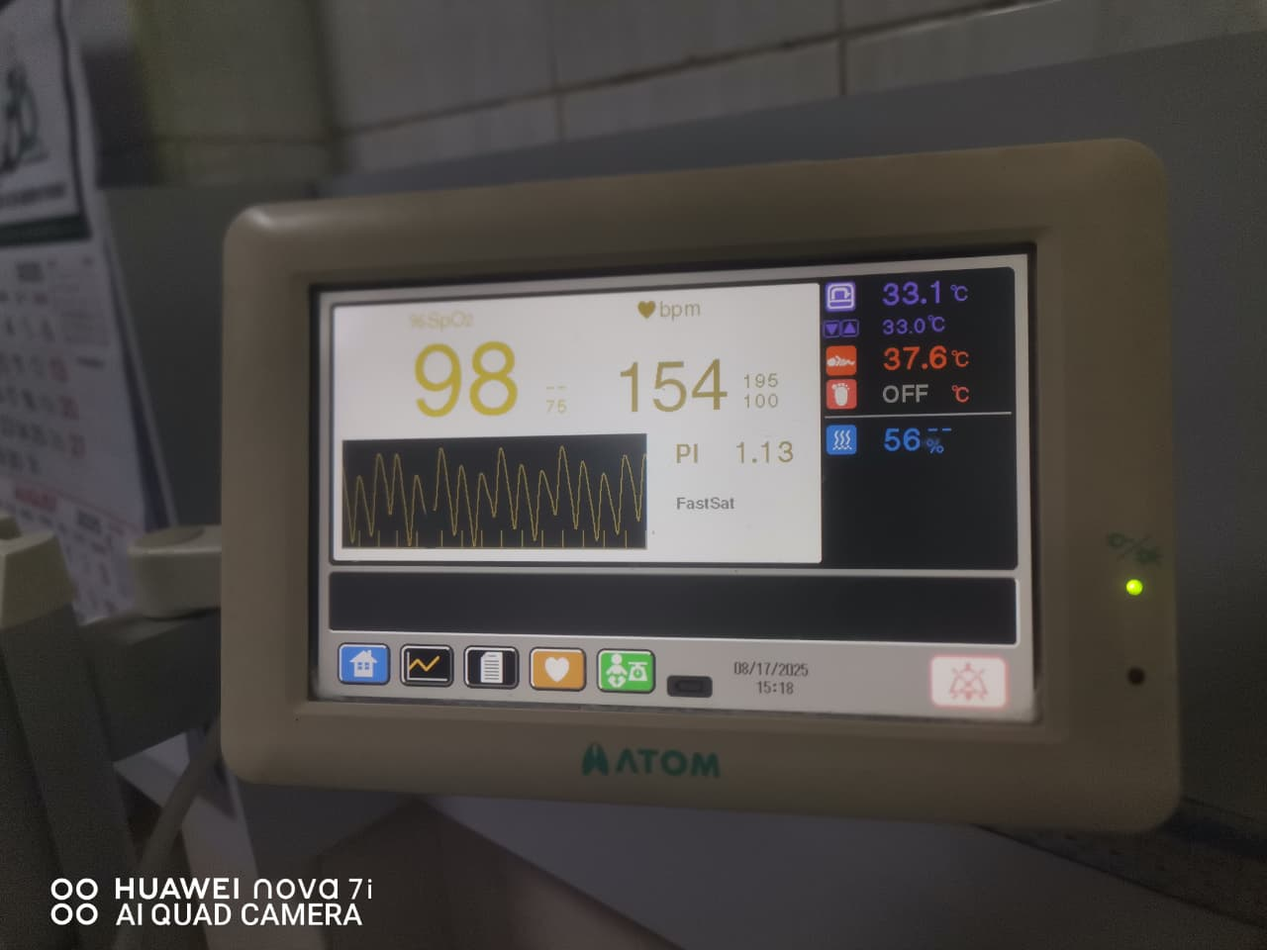air_temp_value: (861, 270, 952, 315)
heart_rate_value: (612, 355, 731, 423)
humidity_value: (871, 421, 926, 463)
skin_temp_value: (869, 339, 952, 382)
spo2_value: (397, 339, 528, 429)
